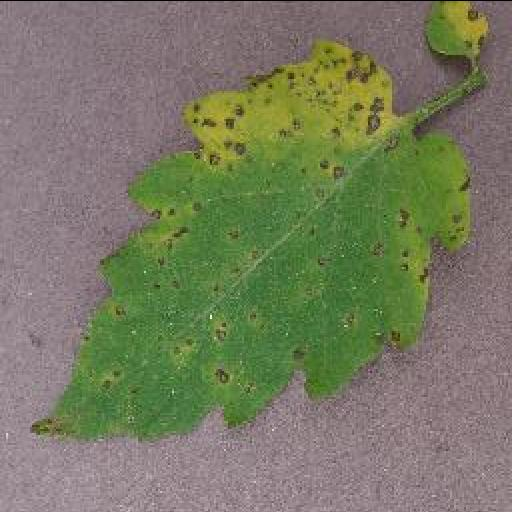disease_tomato: (31, 38, 473, 440)
